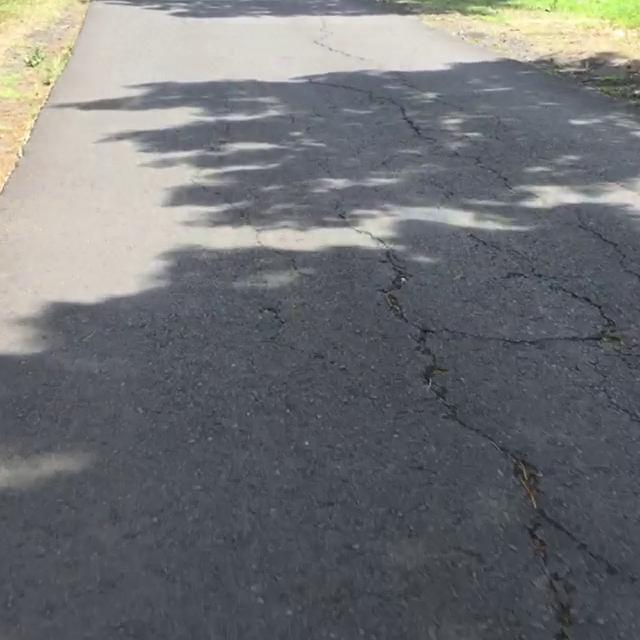retak_memanjang: (367, 240, 595, 640), (290, 54, 446, 149)
